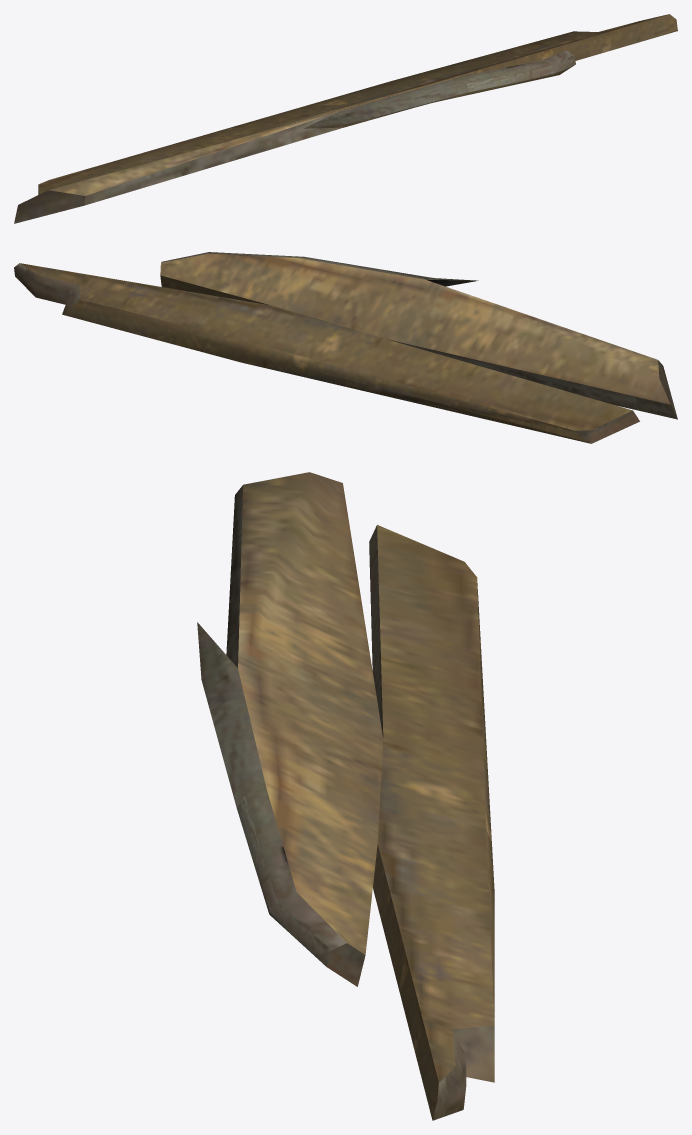
File: boat001b_chunk03.glb
3 renders of one model, top to bottom at view 1: azimuth 30°, elevation 25°; view 2: azimuth 150°, elevation 25°; view 3: azimuth 270°, elevation 25°, orthographic. The views are drawn at different scales.
Parts seen in each view (by area): view 1: boat001b_chunk03; view 2: boat001b_chunk03; view 3: boat001b_chunk03.
Part boxes in pixels (box(x1,y1,x2,y2)): boat001b_chunk03: box(14, 14, 677, 223); boat001b_chunk03: box(14, 252, 677, 443); boat001b_chunk03: box(197, 472, 494, 1120).
Bounding box in the file's own units: 1.52 × 0.1615 × 0.307.
1 material, 1 textured.
